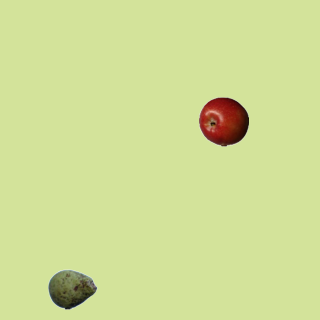Apple Braeburn: (198, 96, 248, 146)
Pear Stone: (47, 264, 97, 314)
